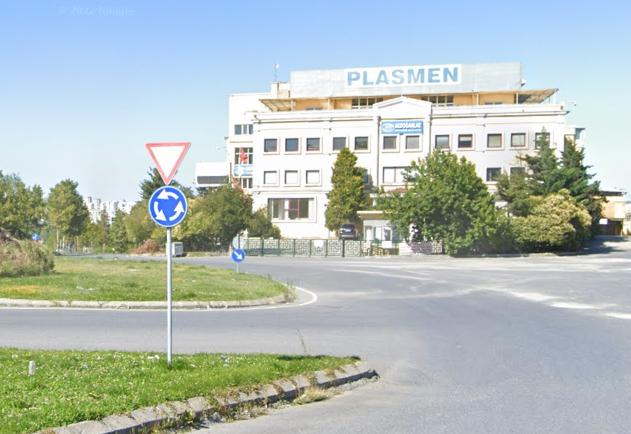crossroads: (151, 187, 187, 228)
